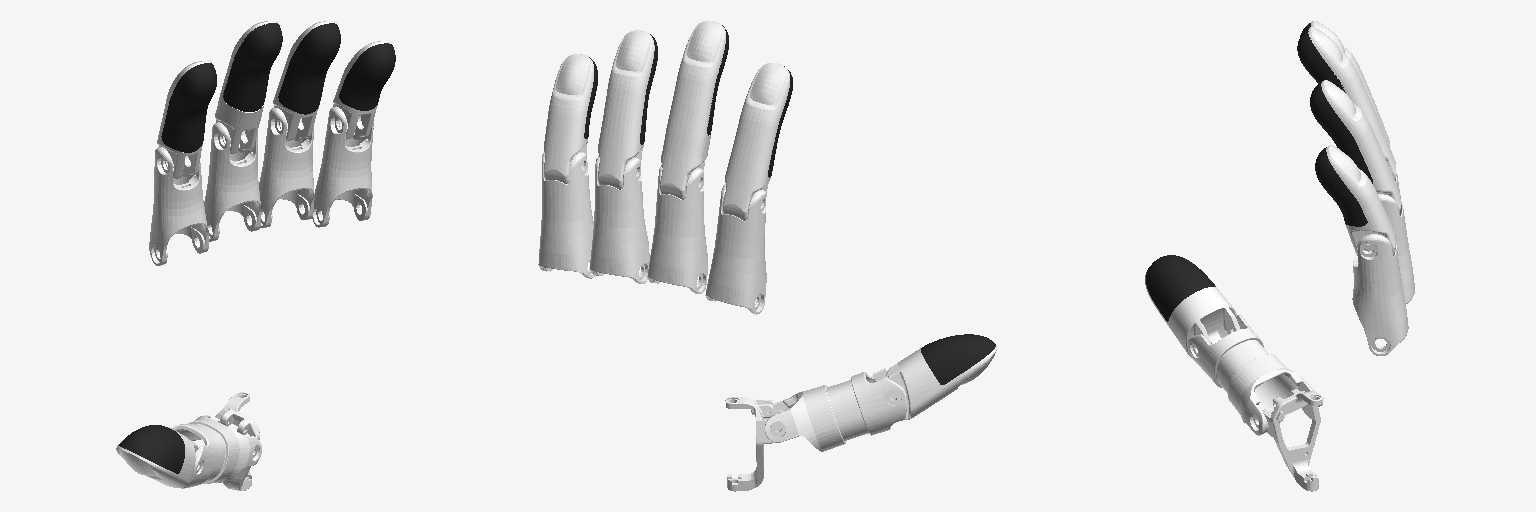
The robot description file, URDF, robot "DH116-V2.0-L":
<?xml version="1.0" encoding="utf-8"?>
<!-- This URDF was automatically created by SolidWorks to URDF Exporter! Originally created by Stephen Brawner (brawner@gmail.com) 
     Commit Version: 1.6.0-4-g7f85cfe  Build Version: 1.6.7995.38578
     For more information, please see http://wiki.ros.org/sw_urdf_exporter -->
<robot
  name="DH116-V2.0-L">
  <!--
    Authoritative coupling description for this hand comes from the DH116 README formulas
    (DH116-V2.0-L is the mirror image of DH116-V2.0-R; master/slave relations are identical).

    Independent DOFs: finger11, finger12, finger21, finger31, finger41, finger51
    Passive follower joints:
      finger13 follows finger12: y = -0.0008x2 + 0.929x - 0.8639
      finger22 follows finger21: y = 0.0035x2 + 0.9206x + 0.6344
      finger32 follows finger31: y = 0.0035x2 + 0.9206x + 0.6344
      finger42 follows finger41: y = 0.0035x2 + 0.9206x + 0.6344
      finger52 follows finger51: y = 0.0035x2 + 0.9206x + 0.6344

    Note: URDF mimic supports only linear coupling:
      q_follower = multiplier * q_driver + offset
    Thumb joint ranges and the finger13 mimic: finger11 [0, 1.588], finger12 [0, 1.030], finger13 [0, 1.13];
    the four remaining fingers keep the master range [0, 1.57].
  -->
  <link
    name="base_link">
    <inertial>
      <origin
        xyz="-0.000885481619364054 0.00705098880179319 0.0606721203964469"
        rpy="0 0 0" />
      <mass
        value="0.0971706835526829" />
      <inertia
        ixx="4.18572172597517E-05"
        ixy="1.06780874776739E-07"
        ixz="2.73865512863031E-07"
        iyy="6.03820095021561E-05"
        iyz="-2.69317202890817E-06"
        izz="3.37219092686759E-05" />
    </inertial>
    <visual>
      <origin
        xyz="0 0 0"
        rpy="0 0 0" />
      <geometry>
        <mesh
          filename="package://DH116-V2.0-L/meshes/base_link.STL" />
      </geometry>
      <material
        name="">
        <color
          rgba="1 1 1 1" />
      </material>
    </visual>
    <collision>
      <origin
        xyz="0 0 0"
        rpy="0 0 0" />
      <geometry>
        <mesh
          filename="package://DH116-V2.0-L/meshes/base_link.STL" />
      </geometry>
    </collision>
  </link>
  <link
    name="finger11_link">
    <inertial>
      <origin
        xyz="-0.00653386755197768 -0.00548384199338138 0.00117858092336609"
        rpy="0 0 0" />
      <mass
        value="0.00272982266009613" />
      <inertia
        ixx="3.56456779732672E-07"
        ixy="9.74826584195562E-09"
        ixz="2.40027996734057E-08"
        iyy="3.31303946382714E-07"
        iyz="1.88505197499325E-08"
        izz="1.07514886339949E-07" />
    </inertial>
    <visual>
      <origin
        xyz="0 0 0"
        rpy="0 0 0" />
      <geometry>
        <mesh
          filename="package://DH116-V2.0-L/meshes/finger11_link.STL" />
      </geometry>
      <material
        name="">
        <color
          rgba="1 1 1 1" />
      </material>
    </visual>
    <collision>
      <origin
        xyz="0 0 0"
        rpy="0 0 0" />
      <geometry>
        <mesh
          filename="package://DH116-V2.0-L/meshes/finger11_link.STL" />
      </geometry>
    </collision>
  </link>
  <joint
    name="finger11"
    type="revolute">
    <origin
      xyz="-0.0190554595858907 -0.00951815946242675 0.0501186330983376"
      rpy="0 -0.000144371107103814 -3.11702330349519E-05" />
    <parent
      link="base_link" />
    <child
      link="finger11_link" />
    <axis
      xyz="0 0.0399505434049681 0.999201658366141" />
    <limit
      lower="0"
      upper="1.588"
      effort="0"
      velocity="0" />
  </joint>
  <link
    name="finger12_link">
    <inertial>
      <origin
        xyz="-2.50445008601052E-06 0.00326043427727912 -0.0210978530281273"
        rpy="0 0 0" />
      <mass
        value="0.00806587022249504" />
      <inertia
        ixx="1.66761308514704E-06"
        ixy="1.91278122912085E-11"
        ixz="-7.2001817225599E-13"
        iyy="1.90227231784403E-06"
        iyz="1.39288234891514E-07"
        izz="8.03104896250819E-07" />
    </inertial>
    <visual>
      <origin
        xyz="0 0 0"
        rpy="0 0 0" />
      <geometry>
        <mesh
          filename="package://DH116-V2.0-L/meshes/finger12_link.STL" />
      </geometry>
      <material
        name="">
        <color
          rgba="1 1 1 1" />
      </material>
    </visual>
    <collision>
      <origin
        xyz="0 0 0"
        rpy="0 0 0" />
      <geometry>
        <mesh
          filename="package://DH116-V2.0-L/meshes/finger12_link.STL" />
      </geometry>
    </collision>
  </link>
  <joint
    name="finger12"
    type="revolute">
    <origin
      xyz="-0.011745 -0.009362 0.007094"
      rpy="-1.9112 0.22722 -1.0484" />
    <parent
      link="finger11_link" />
    <child
      link="finger12_link" />
    <axis
      xyz="-1 0 0" />
    <limit
      lower="0"
      upper="1.030"
      effort="0"
      velocity="0" />
  </joint>
  <link
    name="finger13_link">
    <inertial>
      <origin
        xyz="-5.27705972669379E-08 0.000822246602183413 -0.0135889729575763"
        rpy="0 0 0" />
      <mass
        value="0.0096590777422027" />
      <inertia
        ixx="1.01712246064531E-06"
        ixy="-2.83350679114385E-11"
        ixz="-9.55550413869894E-11"
        iyy="1.10987469085735E-06"
        iyz="-7.41056100177713E-08"
        izz="4.79277685544511E-07" />
    </inertial>
    <visual>
      <origin
        xyz="0 0 0"
        rpy="0 0 0" />
      <geometry>
        <mesh
          filename="package://DH116-V2.0-L/meshes/finger13_link.STL" />
      </geometry>
      <material
        name="">
        <color
          rgba="1 1 1 1" />
      </material>
    </visual>
    <collision>
      <origin
        xyz="0 0 0"
        rpy="0 0 0" />
      <geometry>
        <mesh
          filename="package://DH116-V2.0-L/meshes/finger13_link.STL" />
      </geometry>
    </collision>
  </link>
  <joint
    name="finger13"
    type="revolute">
    <origin
      xyz="0 0.0029699 -0.04019"
      rpy="0.073761 0 0" />
    <parent
      link="finger12_link" />
    <child
      link="finger13_link" />
    <axis
      xyz="-1 0 0" />
    <limit
      lower="0"
      upper="1.13"
      effort="0"
      velocity="0" />
    <mimic
      joint="finger12"
      multiplier="0.88178789"
      offset="-0.00697725445" />
  </joint>
  <link
    name="finger14_link">
    <inertial>
      <origin
        xyz="2.51260878492143E-08 -0.00635136339631467 -0.0232679647126368"
        rpy="0 0 0" />
      <mass
        value="0.00418611060314793" />
      <inertia
        ixx="1.66191186513416E-07"
        ixy="1.7874488296005E-12"
        ixz="-2.48955866349137E-13"
        iyy="2.16281055226658E-07"
        iyz="-3.83376732965375E-09"
        izz="1.32595666036077E-07" />
    </inertial>
    <visual>
      <origin
        xyz="0 0 0"
        rpy="0 0 0" />
      <geometry>
        <mesh
          filename="package://DH116-V2.0-L/meshes/finger14_link.STL" />
      </geometry>
      <material
        name="">
        <color
          rgba="0.2 0.2 0.2 1" />
      </material>
    </visual>
    <collision>
      <origin
        xyz="0 0 0"
        rpy="0 0 0" />
      <geometry>
        <mesh
          filename="package://DH116-V2.0-L/meshes/finger14_link.STL" />
      </geometry>
    </collision>
  </link>
  <joint
    name="finger14"
    type="fixed">
    <origin
      xyz="0 0 0"
      rpy="0 0 0" />
    <parent
      link="finger13_link" />
    <child
      link="finger14_link" />
    <axis
      xyz="0 0 0" />
  </joint>
  <link
    name="finger21_link">
    <inertial>
      <origin
        xyz="-2.57098134513745E-06 0.00199086700928896 0.0176937549852519"
        rpy="0 0 0" />
      <mass
        value="0.00237929482644462" />
      <inertia
        ixx="3.06109958616711E-07"
        ixy="-2.85638492604804E-11"
        ixz="-3.30124291760826E-11"
        iyy="3.35135689757844E-07"
        iyz="9.39797334862059E-09"
        izz="1.35389834841149E-07" />
    </inertial>
    <visual>
      <origin
        xyz="0 0 0"
        rpy="0 0 0" />
      <geometry>
        <mesh
          filename="package://DH116-V2.0-L/meshes/finger21_link.STL" />
      </geometry>
      <material
        name="">
        <color
          rgba="1 1 1 1" />
      </material>
    </visual>
    <collision>
      <origin
        xyz="0 0 0"
        rpy="0 0 0" />
      <geometry>
        <mesh
          filename="package://DH116-V2.0-L/meshes/finger21_link.STL" />
      </geometry>
    </collision>
  </link>
  <joint
    name="finger21"
    type="revolute">
    <origin
      xyz="-0.031931 0.011464 0.11666"
      rpy="0.11781 -0.052257 0" />
    <parent
      link="base_link" />
    <child
      link="finger21_link" />
    <axis
      xyz="1 -3.722E-05 0" />
    <limit
      lower="0"
      upper="1.57"
      effort="0"
      velocity="0" />
  </joint>
  <link
    name="finger22_link">
    <inertial>
      <origin
        xyz="5.98855910706464E-06 0.000193909397147085 0.0163547597427888"
        rpy="0 0 0" />
      <mass
        value="0.00290192826706633" />
      <inertia
        ixx="5.91807586022749E-07"
        ixy="6.48948615801444E-11"
        ixz="-1.14870275804724E-10"
        iyy="5.82285290166925E-07"
        iyz="1.02739717711441E-07"
        izz="8.59558516713996E-08" />
    </inertial>
    <visual>
      <origin
        xyz="0 0 0"
        rpy="0 0 0" />
      <geometry>
        <mesh
          filename="package://DH116-V2.0-L/meshes/finger22_link.STL" />
      </geometry>
      <material
        name="">
        <color
          rgba="1 1 1 1" />
      </material>
    </visual>
    <collision>
      <origin
        xyz="0 0 0"
        rpy="0 0 0" />
      <geometry>
        <mesh
          filename="package://DH116-V2.0-L/meshes/finger22_link.STL" />
      </geometry>
    </collision>
  </link>
  <joint
    name="finger22"
    type="revolute">
    <origin
      xyz="0 0 0.0349999999999978"
      rpy="0 0 0" />
    <parent
      link="finger21_link" />
    <child
      link="finger22_link" />
    <axis
      xyz="0.999999999307322 -3.72203651390728E-05 0" />
    <limit
      lower="0.011072"
      upper="1.950714"
      effort="0"
      velocity="0" />
    <mimic
      joint="finger21"
      multiplier="0.9206"
      offset="0.011072" />
  </joint>
  <link
    name="finger23_link">
    <inertial>
      <origin
        xyz="-1.42941675991548E-06 -0.00692152405481031 0.0257115583607018"
        rpy="0 0 0" />
      <mass
        value="0.00365404362014417" />
      <inertia
        ixx="4.00937326623436E-07"
        ixy="1.05778692361169E-11"
        ixz="1.4170461291313E-11"
        iyy="3.87900455632539E-07"
        iyz="1.07487183375115E-07"
        izz="1.02633277297891E-07" />
    </inertial>
    <visual>
      <origin
        xyz="0 0 0"
        rpy="0 0 0" />
      <geometry>
        <mesh
          filename="package://DH116-V2.0-L/meshes/finger23_link.STL" />
      </geometry>
      <material
        name="">
        <color
          rgba="0.2 0.2 0.2 1" />
      </material>
    </visual>
    <collision>
      <origin
        xyz="0 0 0"
        rpy="0 0 0" />
      <geometry>
        <mesh
          filename="package://DH116-V2.0-L/meshes/finger23_link.STL" />
      </geometry>
    </collision>
  </link>
  <joint
    name="finger23"
    type="fixed">
    <origin
      xyz="0 0 0"
      rpy="0 0 0" />
    <parent
      link="finger22_link" />
    <child
      link="finger23_link" />
    <axis
      xyz="0 0 0" />
  </joint>
  <link
    name="finger31_link">
    <inertial>
      <origin
        xyz="-2.4094955604903E-06 0.00199104742653187 0.0176942081594249"
        rpy="0 0 0" />
      <mass
        value="0.00237934600271944" />
      <inertia
        ixx="3.06107156097123E-07"
        ixy="-2.96467531601573E-11"
        ixz="-2.69080470307623E-11"
        iyy="3.35131726354276E-07"
        iyz="9.39589685033396E-09"
        izz="1.3539055176391E-07" />
    </inertial>
    <visual>
      <origin
        xyz="0 0 0"
        rpy="0 0 0" />
      <geometry>
        <mesh
          filename="package://DH116-V2.0-L/meshes/finger31_link.STL" />
      </geometry>
      <material
        name="">
        <color
          rgba="1 1 1 1" />
      </material>
    </visual>
    <collision>
      <origin
        xyz="0 0 0"
        rpy="0 0 0" />
      <geometry>
        <mesh
          filename="package://DH116-V2.0-L/meshes/finger31_link.STL" />
      </geometry>
    </collision>
  </link>
  <joint
    name="finger31"
    type="revolute">
    <origin
      xyz="-0.010487 0.01339 0.11949"
      rpy="0.12951 0 0" />
    <parent
      link="base_link" />
    <child
      link="finger31_link" />
    <axis
      xyz="1 -3.7272E-05 0" />
    <limit
      lower="0"
      upper="1.57"
      effort="0"
      velocity="0" />
  </joint>
  <link
    name="finger32_link">
    <inertial>
      <origin
        xyz="0.00122971207052464 -0.0183075838469592 -0.0681314495231521"
        rpy="0 0 0" />
      <mass
        value="0.156971898067021" />
      <inertia
        ixx="0.000514892508566982"
        ixy="-7.10974222274753E-05"
        ixz="-2.4984963553027E-05"
        iyy="0.000592311796602313"
        iyz="-7.9247344651906E-05"
        izz="0.000237864729732402" />
    </inertial>
    <visual>
      <origin
        xyz="0 0 0"
        rpy="0 0 0" />
      <geometry>
        <mesh
          filename="package://DH116-V2.0-L/meshes/finger32_link.STL" />
      </geometry>
      <material
        name="">
        <color
          rgba="1 1 1 1" />
      </material>
    </visual>
    <collision>
      <origin
        xyz="0 0 0"
        rpy="0 0 0" />
      <geometry>
        <mesh
          filename="package://DH116-V2.0-L/meshes/finger32_link.STL" />
      </geometry>
    </collision>
  </link>
  <joint
    name="finger32"
    type="revolute">
    <origin
      xyz="0 0 0.0349999999999978"
      rpy="0 0 0" />
    <parent
      link="finger31_link" />
    <child
      link="finger32_link" />
    <axis
      xyz="0.999999999305401 -3.72719518638776E-05 0" />
    <limit
      lower="0.011072"
      upper="1.950714"
      effort="0"
      velocity="0" />
    <mimic
      joint="finger31"
      multiplier="0.9206"
      offset="0.011072" />
  </joint>
  <link
    name="finger33_link">
    <inertial>
      <origin
        xyz="-1.45098871333349E-06 -0.00770572981086169 0.0327505945231363"
        rpy="0 0 0" />
      <mass
        value="0.00365402550398939" />
      <inertia
        ixx="4.00938319116596E-07"
        ixy="1.06793245807712E-11"
        ixz="1.40618034658999E-11"
        iyy="3.87914273522934E-07"
        iyz="1.07470490439345E-07"
        izz="1.02620341915702E-07" />
    </inertial>
    <visual>
      <origin
        xyz="0 0 0"
        rpy="0 0 0" />
      <geometry>
        <mesh
          filename="package://DH116-V2.0-L/meshes/finger33_link.STL" />
      </geometry>
      <material
        name="">
        <color
          rgba="0.2 0.2 0.2 1" />
      </material>
    </visual>
    <collision>
      <origin
        xyz="0 0 0"
        rpy="0 0 0" />
      <geometry>
        <mesh
          filename="package://DH116-V2.0-L/meshes/finger33_link.STL" />
      </geometry>
    </collision>
  </link>
  <joint
    name="finger33"
    type="fixed">
    <origin
      xyz="0 0 0"
      rpy="0 0 0" />
    <parent
      link="finger32_link" />
    <child
      link="finger33_link" />
    <axis
      xyz="0 0 0" />
  </joint>
  <link
    name="finger41_link">
    <inertial>
      <origin
        xyz="-9.43307808434768E-07 0.00199104767345828 0.0176942871230779"
        rpy="0 0 0" />
      <mass
        value="0.00237923407514452" />
      <inertia
        ixx="3.06095291878271E-07"
        ixy="-1.32850354351898E-11"
        ixz="-1.30521439805876E-11"
        iyy="3.35116191806524E-07"
        iyz="9.39959496067708E-09"
        izz="1.35385652349531E-07" />
    </inertial>
    <visual>
      <origin
        xyz="0 0 0"
        rpy="0 0 0" />
      <geometry>
        <mesh
          filename="package://DH116-V2.0-L/meshes/finger41_link.STL" />
      </geometry>
      <material
        name="">
        <color
          rgba="1 1 1 1" />
      </material>
    </visual>
    <collision>
      <origin
        xyz="0 0 0"
        rpy="0 0 0" />
      <geometry>
        <mesh
          filename="package://DH116-V2.0-L/meshes/finger41_link.STL" />
      </geometry>
    </collision>
  </link>
  <joint
    name="finger41"
    type="revolute">
    <origin
      xyz="0.010961 0.014964 0.11844"
      rpy="0.11788 0.052279 0" />
    <parent
      link="base_link" />
    <child
      link="finger41_link" />
    <axis
      xyz="1 -0.00065071 0" />
    <limit
      lower="0"
      upper="1.57"
      effort="0"
      velocity="0" />
  </joint>
  <link
    name="finger42_link">
    <inertial>
      <origin
        xyz="6.19560338664671E-06 0.000193797345243336 0.0163550010224083"
        rpy="0 0 0" />
      <mass
        value="0.00290199036160498" />
      <inertia
        ixx="5.91825094838781E-07"
        ixy="5.78046547206412E-11"
        ixz="-5.06018264885727E-11"
        iyy="5.82300690138188E-07"
        iyz="1.02745433687664E-07"
        izz="8.59585888643308E-08" />
    </inertial>
    <visual>
      <origin
        xyz="0 0 0"
        rpy="0 0 0" />
      <geometry>
        <mesh
          filename="package://DH116-V2.0-L/meshes/finger42_link.STL" />
      </geometry>
      <material
        name="">
        <color
          rgba="1 1 1 1" />
      </material>
    </visual>
    <collision>
      <origin
        xyz="0 0 0"
        rpy="0 0 0" />
      <geometry>
        <mesh
          filename="package://DH116-V2.0-L/meshes/finger42_link.STL" />
      </geometry>
    </collision>
  </link>
  <joint
    name="finger42"
    type="revolute">
    <origin
      xyz="0 0 0.0349999999999978"
      rpy="0 0 0" />
    <parent
      link="finger41_link" />
    <child
      link="finger42_link" />
    <axis
      xyz="0.999999788287446 -0.000650711197996891 0" />
    <limit
      lower="0.011072"
      upper="1.950714"
      effort="0"
      velocity="0" />
    <mimic
      joint="finger41"
      multiplier="0.9206"
      offset="0.011072" />
  </joint>
  <link
    name="finger43_link">
    <inertial>
      <origin
        xyz="-5.66903827291243E-06 -0.00692151592052633 0.0257115211691982"
        rpy="0 0 0" />
      <mass
        value="0.00365405764803405" />
      <inertia
        ixx="4.00938713057169E-07"
        ixy="2.65309734950853E-12"
        ixz="7.99978979401171E-11"
        iyy="3.87902083804742E-07"
        iyz="1.07487399571398E-07"
        izz="1.02633787481794E-07" />
    </inertial>
    <visual>
      <origin
        xyz="0 0 0"
        rpy="0 0 0" />
      <geometry>
        <mesh
          filename="package://DH116-V2.0-L/meshes/finger43_link.STL" />
      </geometry>
      <material
        name="">
        <color
          rgba="0.2 0.2 0.2 1" />
      </material>
    </visual>
    <collision>
      <origin
        xyz="0 0 0"
        rpy="0 0 0" />
      <geometry>
        <mesh
          filename="package://DH116-V2.0-L/meshes/finger43_link.STL" />
      </geometry>
    </collision>
  </link>
  <joint
    name="finger43"
    type="fixed">
    <origin
      xyz="0 0 0"
      rpy="0 0 0" />
    <parent
      link="finger42_link" />
    <child
      link="finger43_link" />
    <axis
      xyz="0 0 0" />
  </joint>
  <link
    name="finger51_link">
    <inertial>
      <origin
        xyz="-2.00464584509952E-06 0.00199106678375599 0.0176943268505579"
        rpy="0 0 0" />
      <mass
        value="0.00237919133404302" />
      <inertia
        ixx="3.0609409666778E-07"
        ixy="-2.97958665925172E-11"
        ixz="-1.52782075885928E-11"
        iyy="3.35114652956828E-07"
        iyz="9.40108443105697E-09"
        izz="1.35384202521341E-07" />
    </inertial>
    <visual>
      <origin
        xyz="0 0 0"
        rpy="0 0 0" />
      <geometry>
        <mesh
          filename="package://DH116-V2.0-L/meshes/finger51_link.STL" />
      </geometry>
      <material
        name="">
        <color
          rgba="1 1 1 1" />
      </material>
    </visual>
    <collision>
      <origin
        xyz="0 0 0"
        rpy="0 0 0" />
      <geometry>
        <mesh
          filename="package://DH116-V2.0-L/meshes/finger51_link.STL" />
      </geometry>
    </collision>
  </link>
  <joint
    name="finger51"
    type="revolute">
    <origin
      xyz="0.032132 0.012794 0.11444"
      rpy="0.11712 0.078529 0" />
    <parent
      link="base_link" />
    <child
      link="finger51_link" />
    <axis
      xyz="1 -9.2575E-05 0" />
    <limit
      lower="0"
      upper="1.57"
      effort="0"
      velocity="0" />
  </joint>
  <link
    name="finger52_link">
    <inertial>
      <origin
        xyz="-2.09626842906374E-06 0.00110185152517959 0.0123390063337705"
        rpy="0 0 0" />
      <mass
        value="0.00638467055783515" />
      <inertia
        ixx="8.49154956800084E-07"
        ixy="-1.21358388030481E-10"
        ixz="4.70165567844941E-10"
        iyy="8.38633399882479E-07"
        iyz="1.47999555004253E-07"
        izz="1.69709918318056E-07" />
    </inertial>
    <visual>
      <origin
        xyz="0 0 0"
        rpy="0 0 0" />
      <geometry>
        <mesh
          filename="package://DH116-V2.0-L/meshes/finger52_link.STL" />
      </geometry>
      <material
        name="">
        <color
          rgba="1 1 1 1" />
      </material>
    </visual>
    <collision>
      <origin
        xyz="0 0 0"
        rpy="0 0 0" />
      <geometry>
        <mesh
          filename="package://DH116-V2.0-L/meshes/finger52_link.STL" />
      </geometry>
    </collision>
  </link>
  <joint
    name="finger52"
    type="revolute">
    <origin
      xyz="0 0 0.035"
      rpy="0 0 0" />
    <parent
      link="finger51_link" />
    <child
      link="finger52_link" />
    <axis
      xyz="1 -9.2575E-05 0" />
    <limit
      lower="0.011072"
      upper="1.950714"
      effort="0"
      velocity="0" />
    <mimic
      joint="finger51"
      multiplier="0.9206"
      offset="0.011072" />
  </joint>
  <link
    name="finger53_link">
    <inertial>
      <origin
        xyz="-5.76041574135155E-07 -0.00593758835428695 0.021123654983382"
        rpy="0 0 0" />
      <mass
        value="0.00249664908867007" />
      <inertia
        ixx="1.41888632260774E-07"
        ixy="5.21853821747191E-13"
        ixz="3.81608200290867E-12"
        iyy="1.42159839090132E-07"
        iyz="4.09235711922346E-08"
        izz="6.0465883912893E-08" />
    </inertial>
    <visual>
      <origin
        xyz="0 0 0"
        rpy="0 0 0" />
      <geometry>
        <mesh
          filename="package://DH116-V2.0-L/meshes/finger53_link.STL" />
      </geometry>
      <material
        name="">
        <color
          rgba="0.2 0.2 0.2 1" />
      </material>
    </visual>
    <collision>
      <origin
        xyz="0 0 0"
        rpy="0 0 0" />
      <geometry>
        <mesh
          filename="package://DH116-V2.0-L/meshes/finger53_link.STL" />
      </geometry>
    </collision>
  </link>
  <joint
    name="finger53"
    type="fixed">
    <origin
      xyz="0 0 0"
      rpy="0 0 0" />
    <parent
      link="finger52_link" />
    <child
      link="finger53_link" />
    <axis
      xyz="0 0 0" />
  </joint>
</robot>

--- What the picture shows (computed from the rendered views, not written in the file) ---
Views: 3 orthographic renders of the robot side by side, from view 1: azimuth 30°, elevation 25°; view 2: azimuth 150°, elevation 25°; view 3: azimuth 270°, elevation 25°.
Robot: DH116-V2.0-L — 17 links, 16 joints (11 revolute, 5 fixed); root link base_link; default pose: joints at zero except 4 at the middle of their limits (finger13 = -0.007, finger22 = 0.0111, finger32 = 0.0111, finger42 = 0.0111, finger52 = 0.0111).
Links seen in each view (by area): view 1: finger51_link, finger41_link, finger21_link, finger31_link, finger12_link, finger43_link, finger33_link, finger23_link, finger53_link, finger14_link, finger32_link, finger13_link (+4 smaller); view 2: finger12_link, finger32_link, finger22_link, finger42_link, finger41_link, finger31_link, finger21_link, finger51_link, finger52_link, finger13_link, finger14_link, finger11_link; view 3: finger12_link, finger51_link, finger13_link, finger11_link, finger42_link, finger52_link, finger14_link, finger32_link, finger43_link, finger53_link, finger41_link, finger33_link (+1 smaller).
Boxes of the visible links, box(x1,y1,x2,y2) form: finger51_link: box(312, 106, 373, 227); finger41_link: box(259, 108, 314, 227); finger21_link: box(149, 147, 208, 265); finger31_link: box(204, 122, 260, 241); finger12_link: box(168, 415, 261, 488); finger43_link: box(278, 23, 340, 114); finger33_link: box(223, 23, 282, 111); finger23_link: box(161, 63, 216, 152); finger53_link: box(339, 43, 395, 110); finger14_link: box(118, 425, 184, 473); finger32_link: box(215, 20, 277, 154); finger13_link: box(116, 430, 197, 487); finger12_link: box(765, 368, 906, 451); finger32_link: box(660, 20, 725, 199); finger22_link: box(723, 63, 789, 220); finger42_link: box(598, 30, 654, 189); finger41_link: box(590, 156, 649, 283); finger31_link: box(647, 165, 707, 293); finger21_link: box(705, 184, 766, 314); finger51_link: box(538, 152, 594, 278); finger52_link: box(544, 54, 593, 183); finger13_link: box(886, 345, 997, 419); finger14_link: box(921, 334, 995, 384); finger11_link: box(725, 397, 783, 491); finger12_link: box(1188, 315, 1322, 435); finger51_link: box(1352, 234, 1408, 355); finger13_link: box(1145, 272, 1240, 357); finger11_link: box(1262, 389, 1323, 491); finger42_link: box(1321, 80, 1400, 213); finger52_link: box(1326, 145, 1395, 255); finger14_link: box(1146, 255, 1215, 321); finger32_link: box(1308, 27, 1395, 179); finger43_link: box(1310, 82, 1372, 183); finger53_link: box(1315, 147, 1367, 226); finger41_link: box(1378, 194, 1414, 303); finger33_link: box(1297, 28, 1345, 92).
Bounding box of the posed robot: 0.1374 × 0.0893 × 0.1713 m (x, y, z).
Meshes: 17 distinct files referenced, 16 mesh visuals loaded (16 binary STL); not drawn: 1 (reference not matched to a file when rendering).
